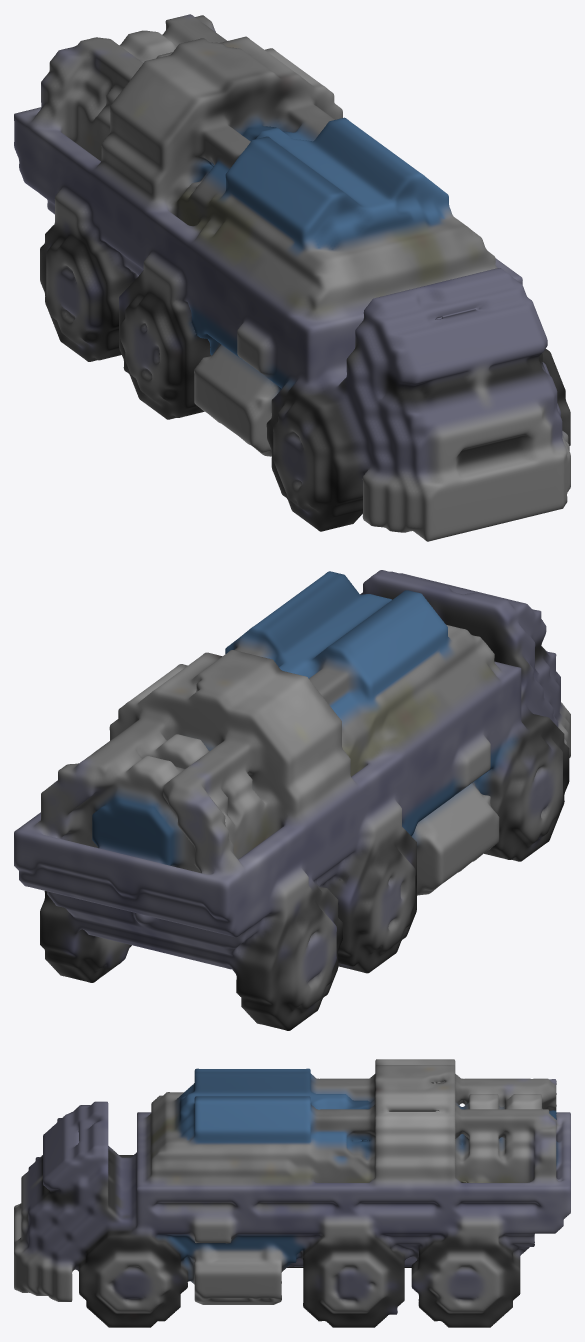
File: allied_mcv.glb
3 renders of one model, top to bottom at view 1: azimuth 30°, elevation 25°; view 2: azimuth 150°, elevation 25°; view 3: azimuth 270°, elevation 25°, orthographic. The views are drawn at different scales.
Visible parts, largest first — view 1: allied_mcv; view 2: allied_mcv; view 3: allied_mcv.
Part boxes in pixels (left/top/right/bottom): allied_mcv: left=14, top=14, right=570, bottom=541; allied_mcv: left=14, top=570, right=570, bottom=1030; allied_mcv: left=14, top=1059, right=570, bottom=1327.
Size of the model in its own units: 2.41 by 2.72 by 6.39.
